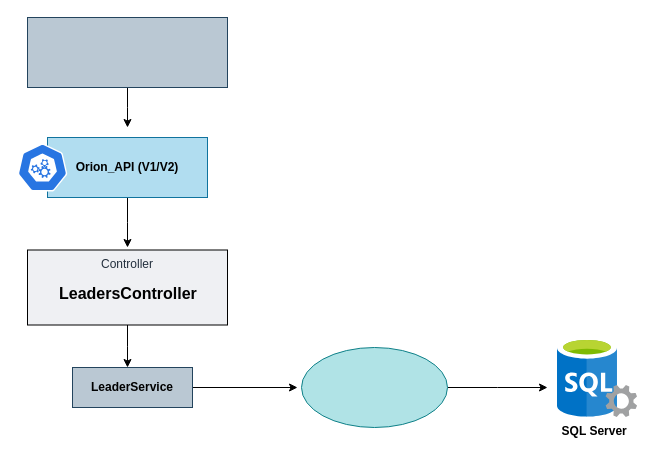
The diagram is 655 pixels wide and 471 high, and some of its shapes have lost their labels. Each missing label, with the centre of its shape:
Client/ Swagger: point 127,52
EF Core/ DB Context: point 374,387
